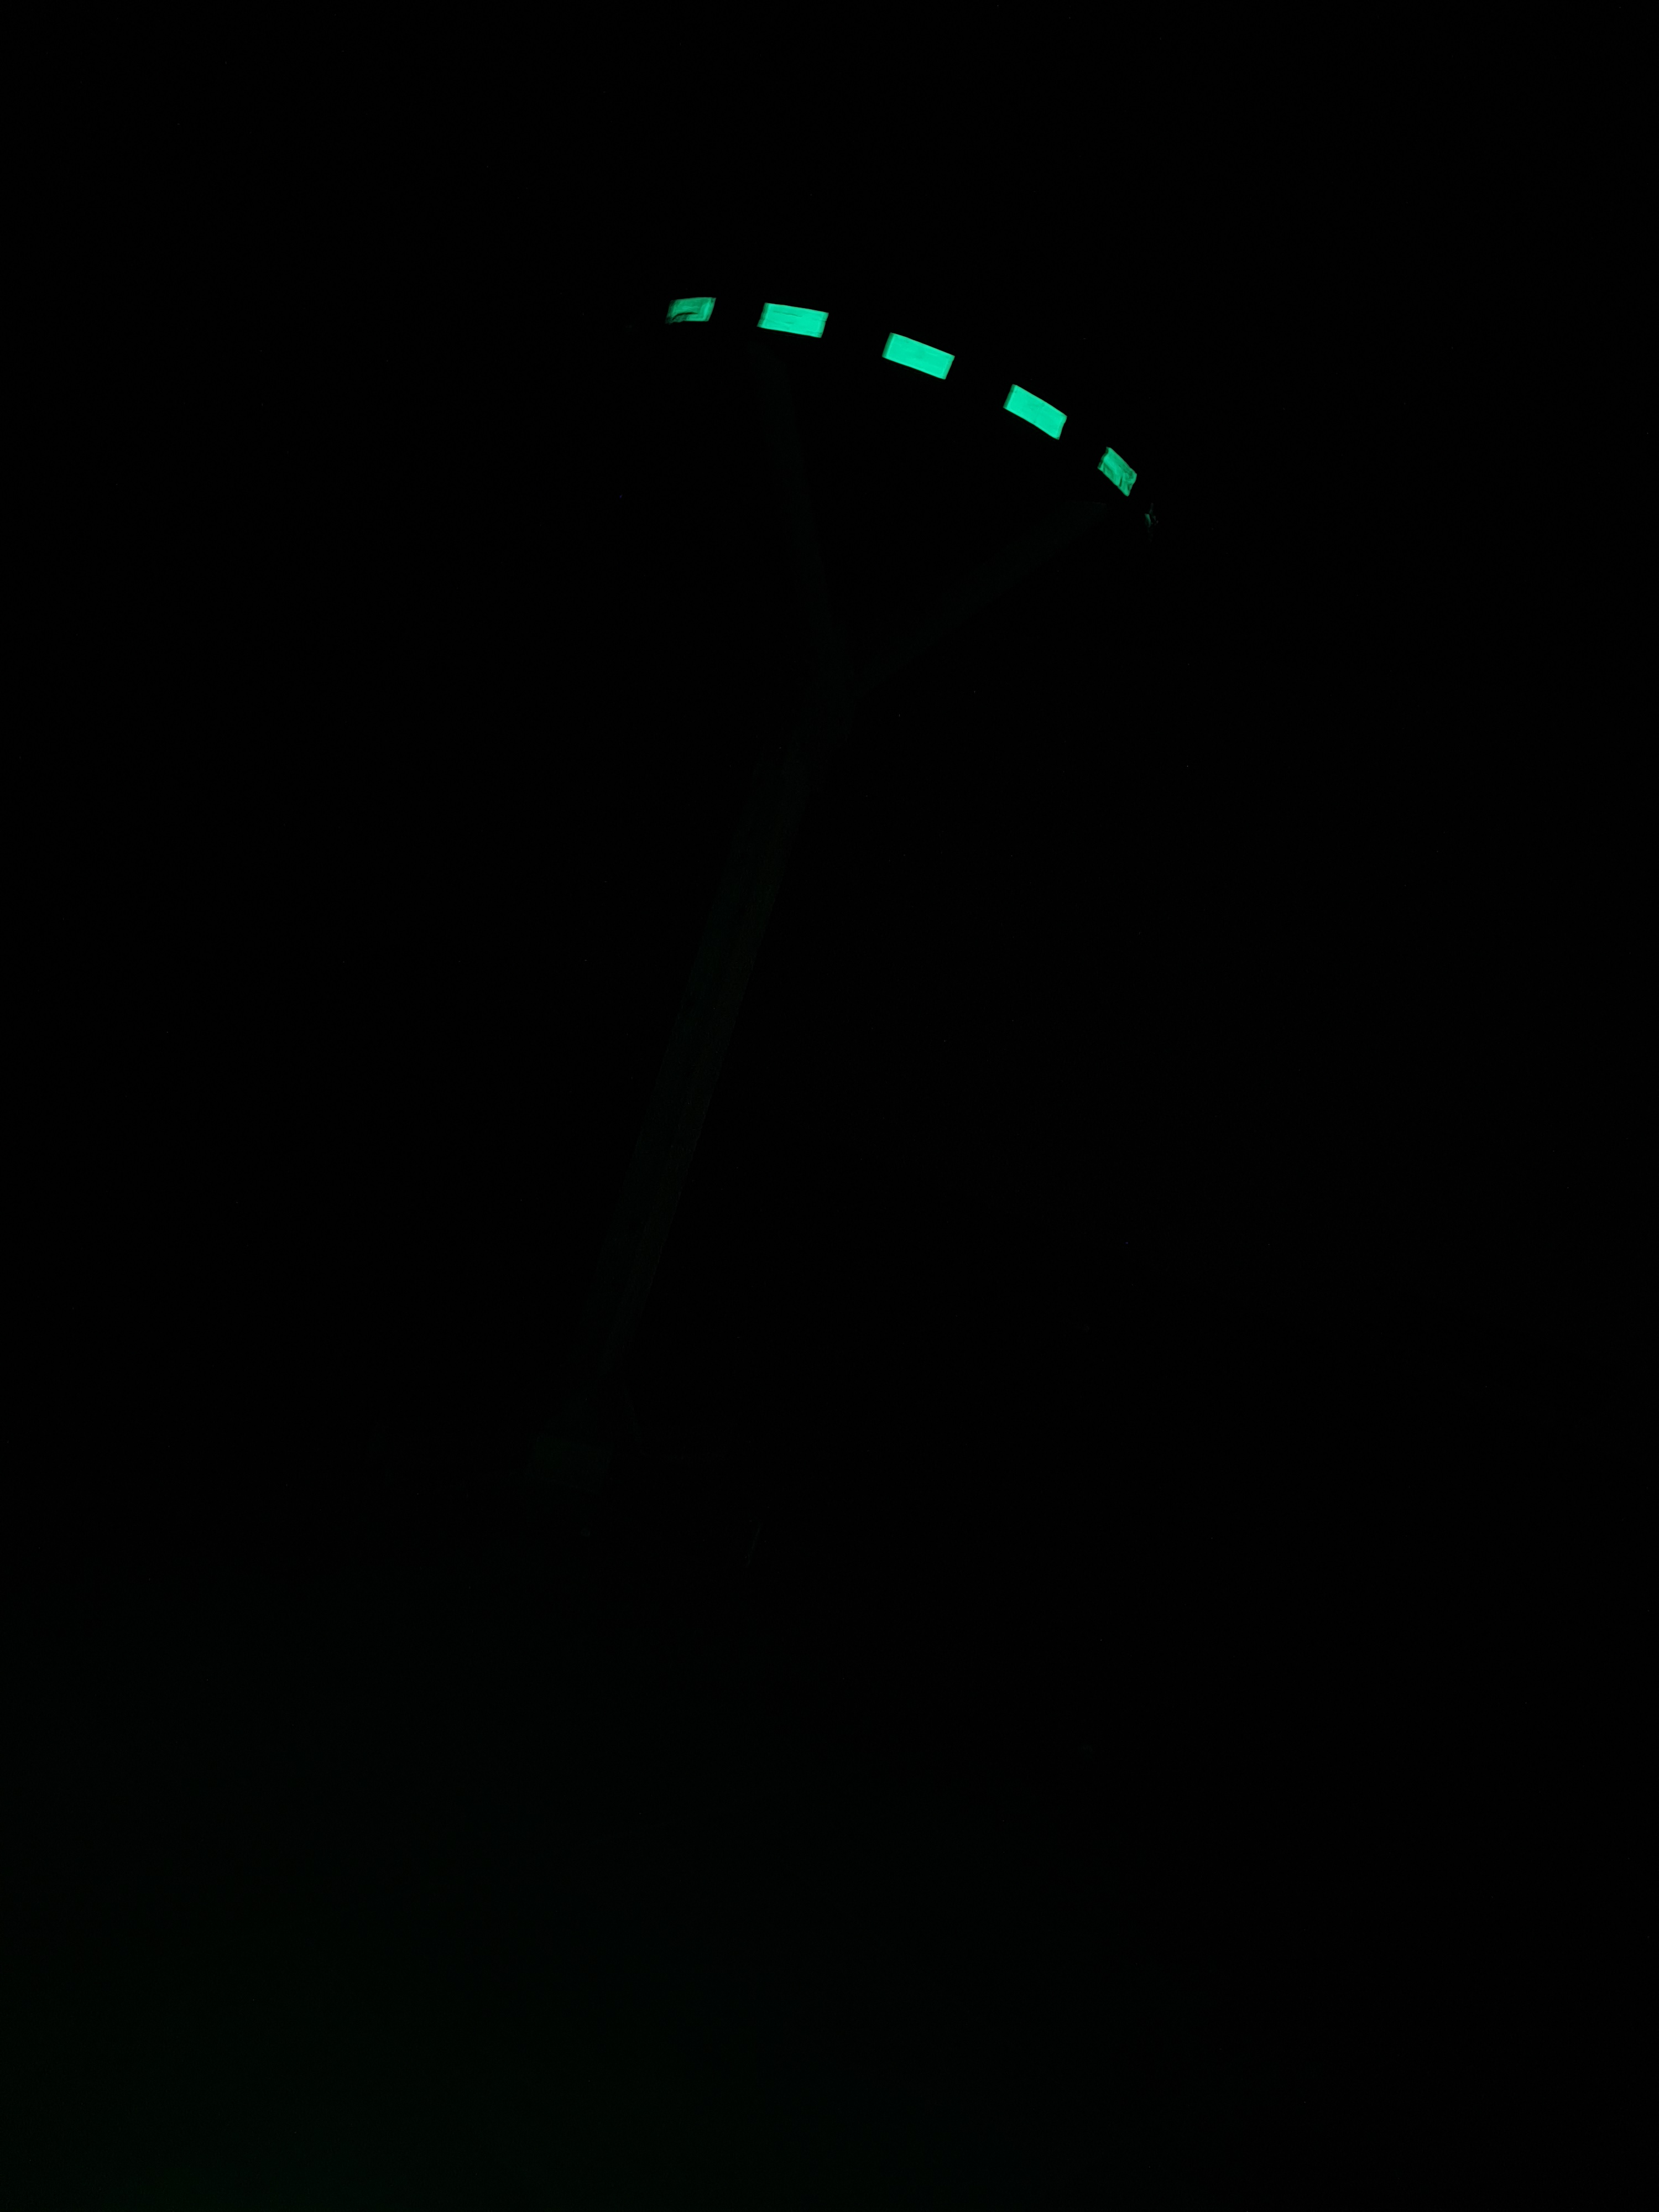hoop: (666, 291, 1140, 502)
